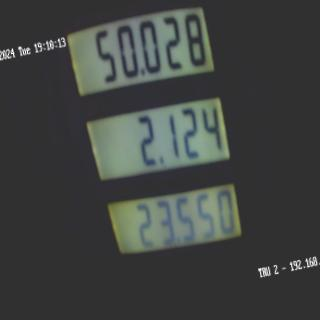screen: (58, 0, 259, 275)
